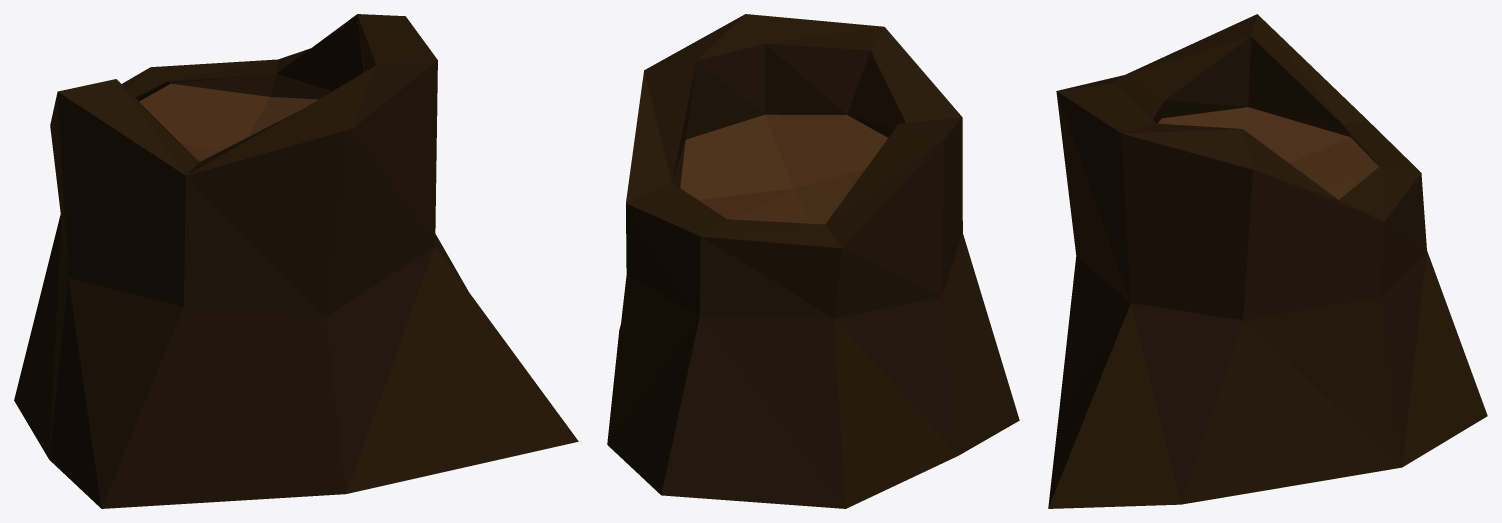
The model's file is tree_stump_1.fbx.
3 renders of one model, left to right at view 1: azimuth 30°, elevation 25°; view 2: azimuth 150°, elevation 25°; view 3: azimuth 270°, elevation 25°, orthographic. The views are drawn at different scales.
Visible parts, largest first — view 1: tree_stump_1; view 2: tree_stump_1; view 3: tree_stump_1.
Boxes of the visible parts, <box> form: tree_stump_1: <box>14,14,578,508</box>; tree_stump_1: <box>607,14,1019,508</box>; tree_stump_1: <box>1048,14,1487,508</box>.
Size of the model in its own units: 123 by 105 by 121.
